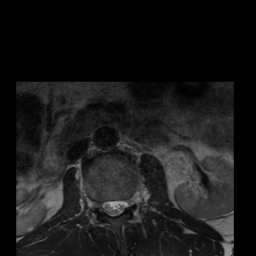CCS_normal: (109, 192, 119, 223)
LFS_normal: (126, 188, 134, 213)
LLS_normal: (119, 192, 127, 219)
RFS_normal: (93, 191, 101, 215)
RLS_normal: (101, 192, 109, 220)
